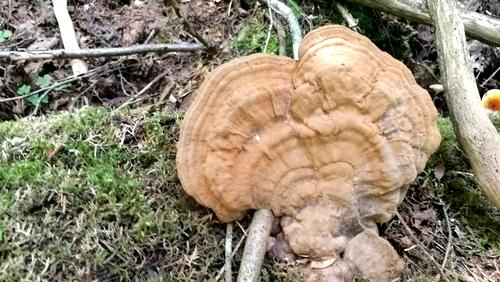Ganoderma - Fruit Body: (174, 23, 443, 260)
